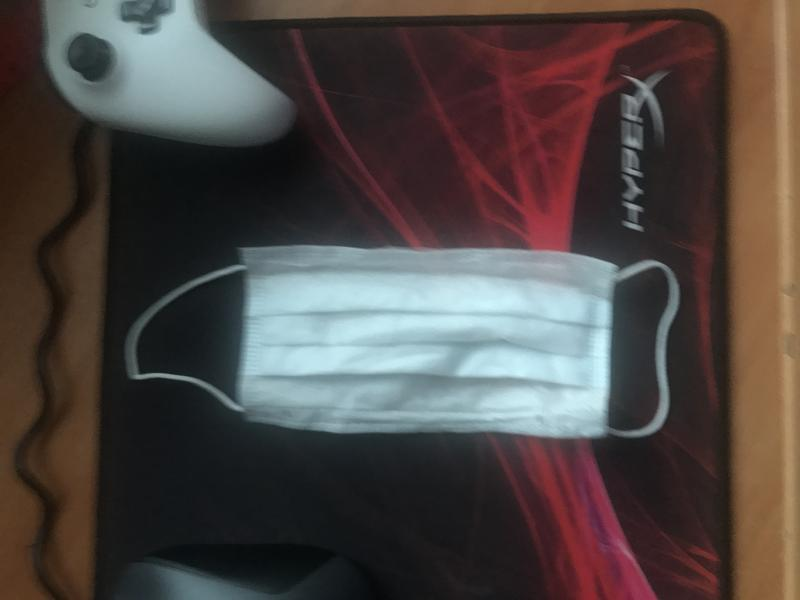medical_mask: (126, 248, 676, 437)
